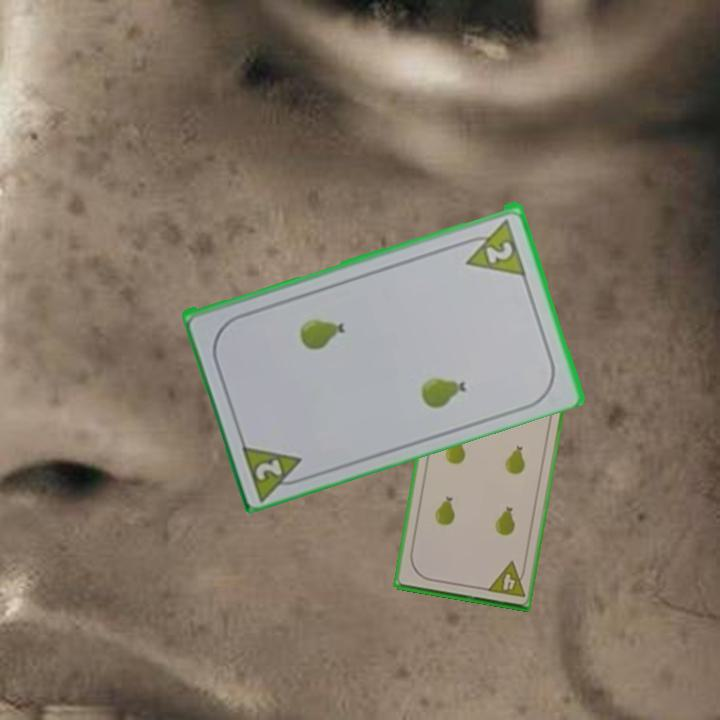2p: (238, 437, 312, 501), (457, 213, 529, 278)
4p: (483, 558, 529, 600)
